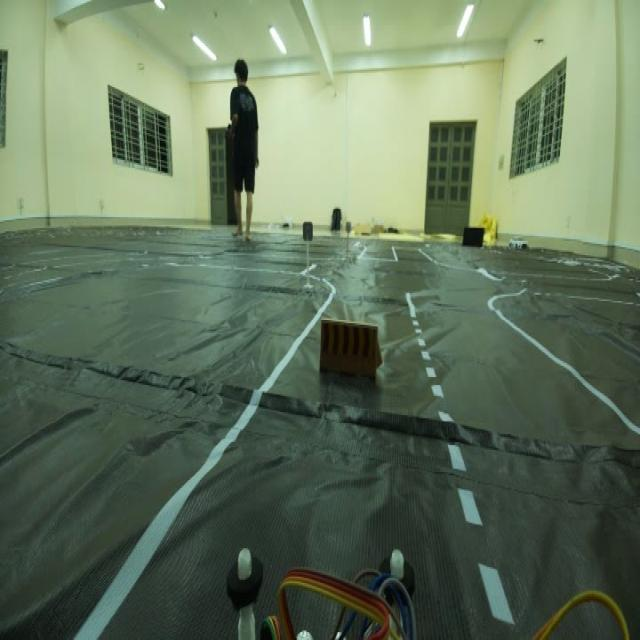roadblock: (312, 308, 380, 394)
